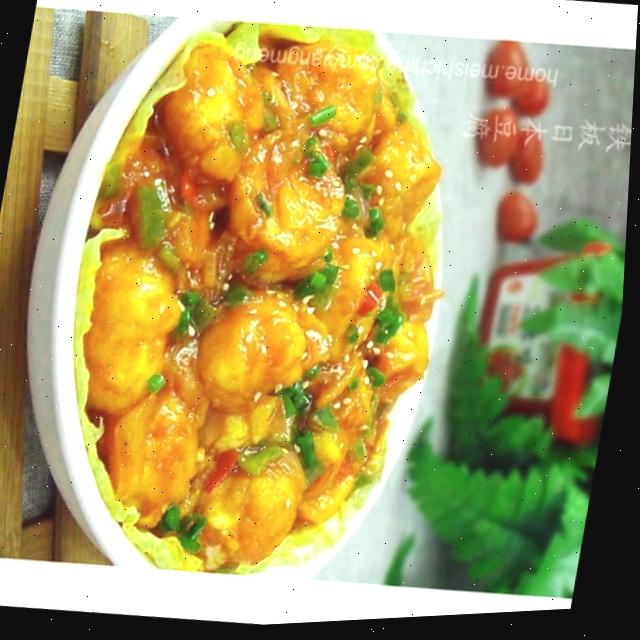豆腐料理: (28, 0, 488, 609)
